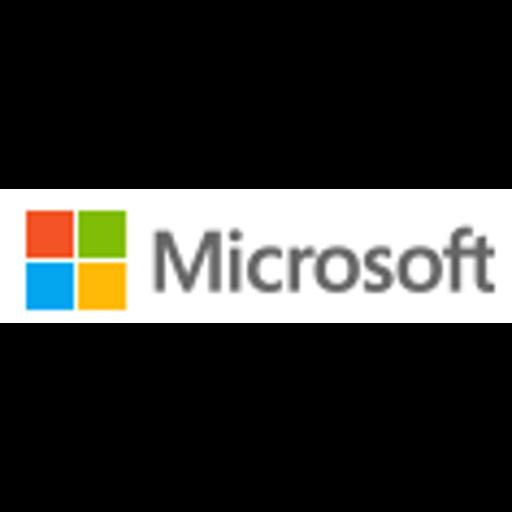Outlook: (0, 189, 512, 323)
